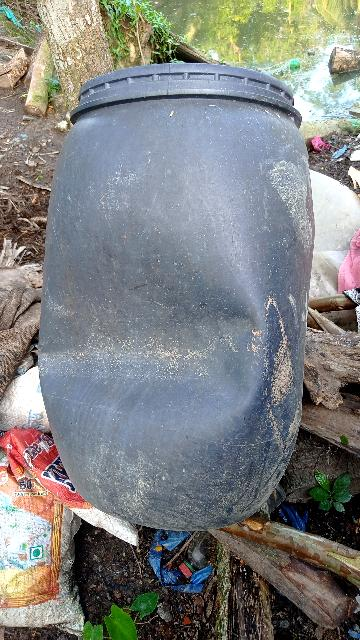hardplastic: (37, 71, 312, 516)
